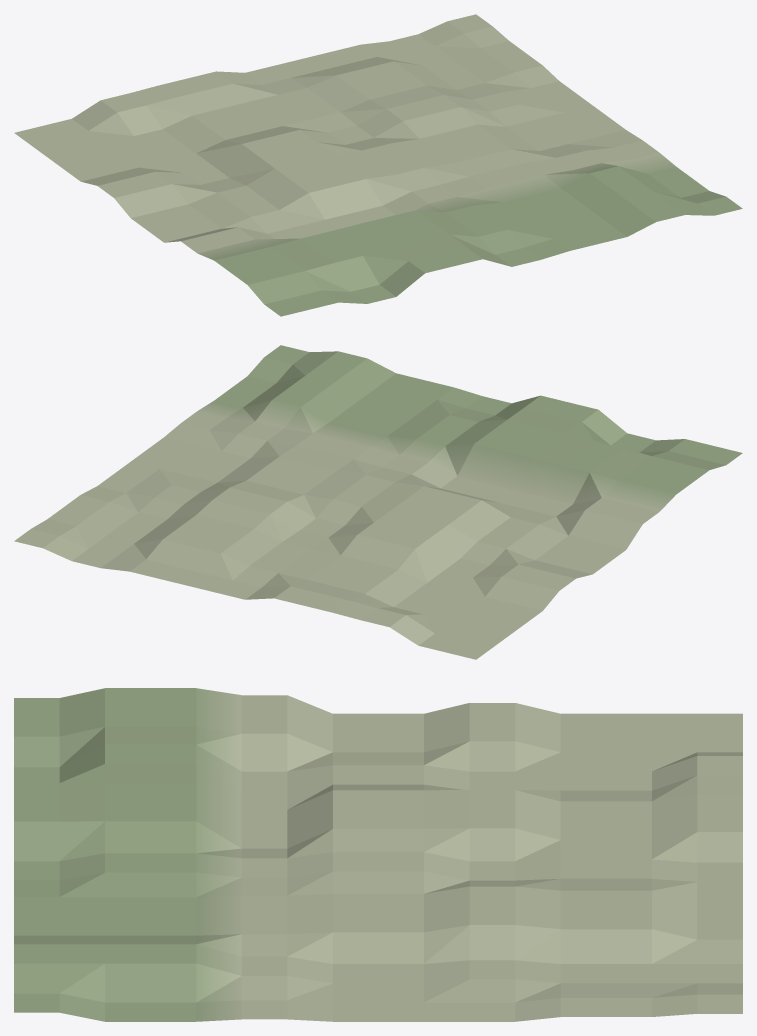
3 renders of one model, top to bottom at view 1: azimuth 30°, elevation 25°; view 2: azimuth 150°, elevation 25°; view 3: azimuth 270°, elevation 25°, orthographic. The views are drawn at different scales.
Bounding box in the file's own units: 32 × 1.32 × 32.
